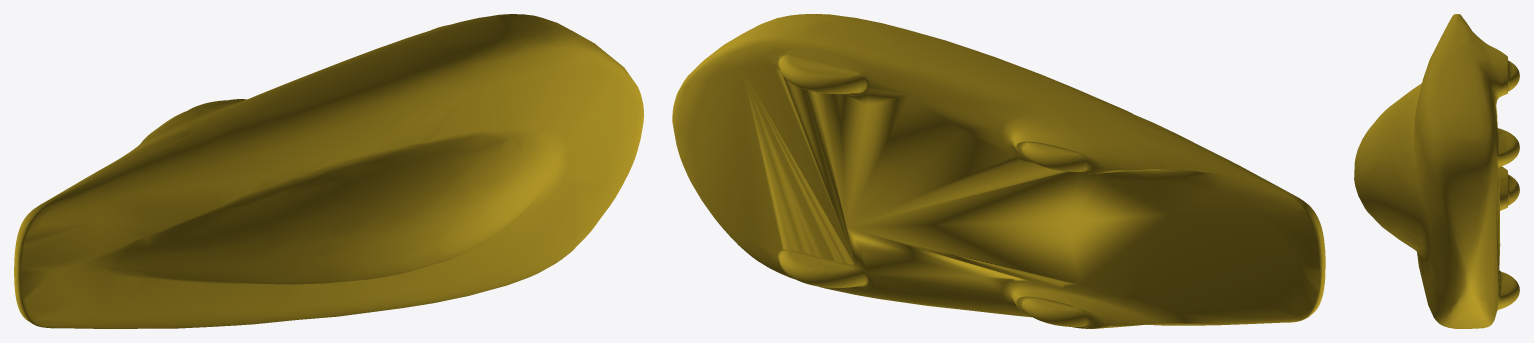
File: SZEmissionRviz4.obj
The picture shows the model from 3 angles, left to right: view 1: azimuth 30°, elevation 25°; view 2: azimuth 150°, elevation 25°; view 3: azimuth 270°, elevation 25°; orthographic projection. The views are drawn at different scales.
Visible parts, largest first — view 1: tomor_kasztni; view 2: tomor_kasztni; view 3: tomor_kasztni.
Part boxes in pixels (x1,y1,x2,y2): tomor_kasztni: (14, 14, 643, 328); tomor_kasztni: (672, 14, 1325, 328); tomor_kasztni: (1354, 14, 1519, 328).
Bounding box in the file's own units: 3.47 × 1.28 × 1.05.
